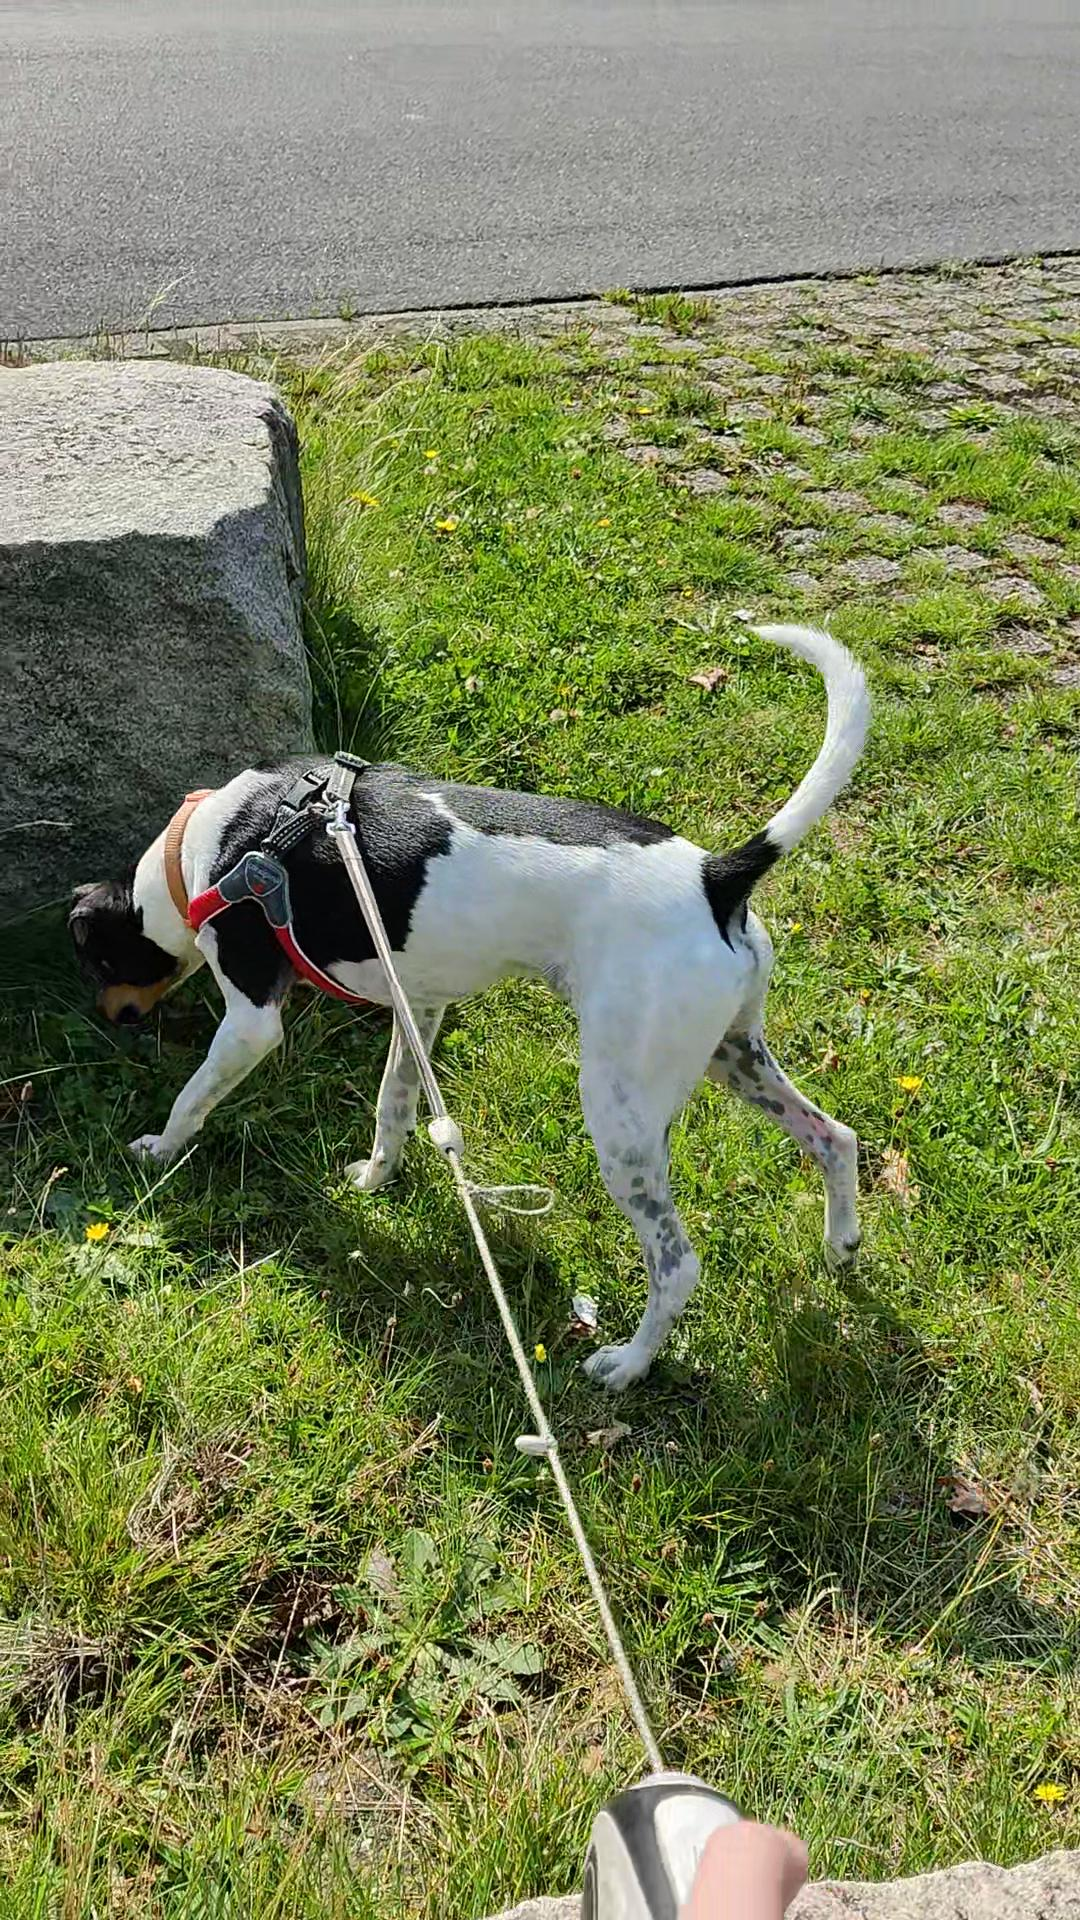Dog: (58, 572, 898, 1400)
